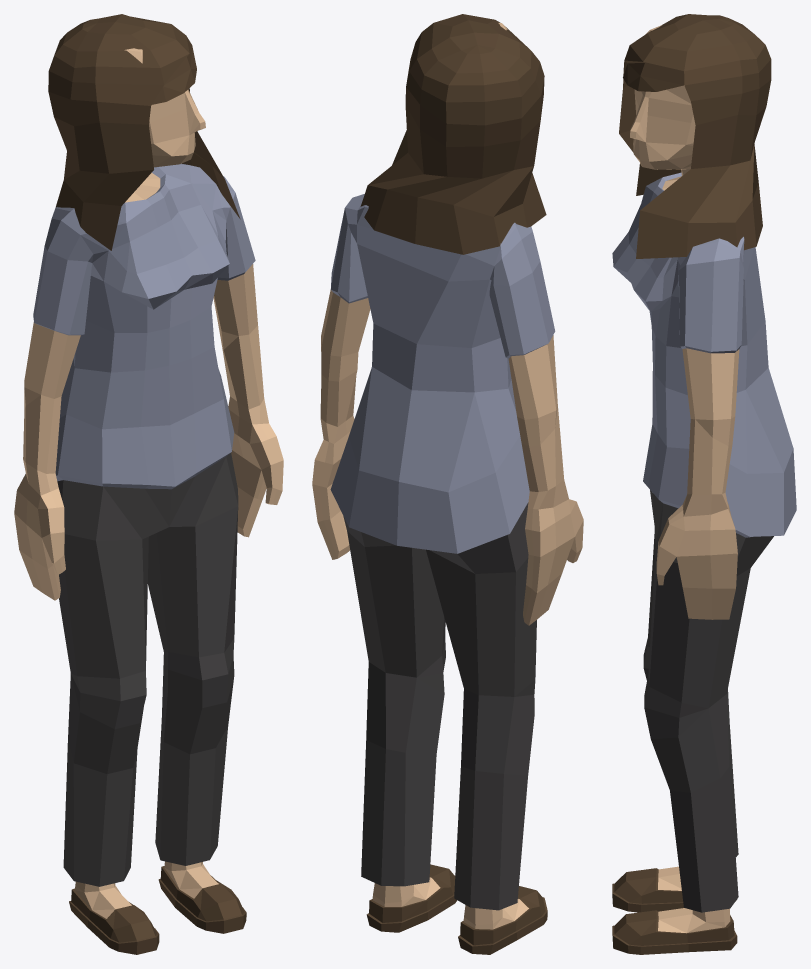
File: Female_Crowd_LookingAround.glb
3 views of the same model, side by side, from view 1: azimuth 30°, elevation 25°; view 2: azimuth 150°, elevation 25°; view 3: azimuth 270°, elevation 25° (orthographic). The views are drawn at different scales.
Visible parts, largest first — view 1: Female_Crowd_LookingAround; view 2: Female_Crowd_LookingAround; view 3: Female_Crowd_LookingAround.
Part boxes in pixels (x1,y1,x2,y2): Female_Crowd_LookingAround: (14, 14, 283, 954); Female_Crowd_LookingAround: (312, 14, 583, 954); Female_Crowd_LookingAround: (612, 14, 796, 954).
Bounding box in the file's own units: 0.4545 × 1.67 × 0.3136.
